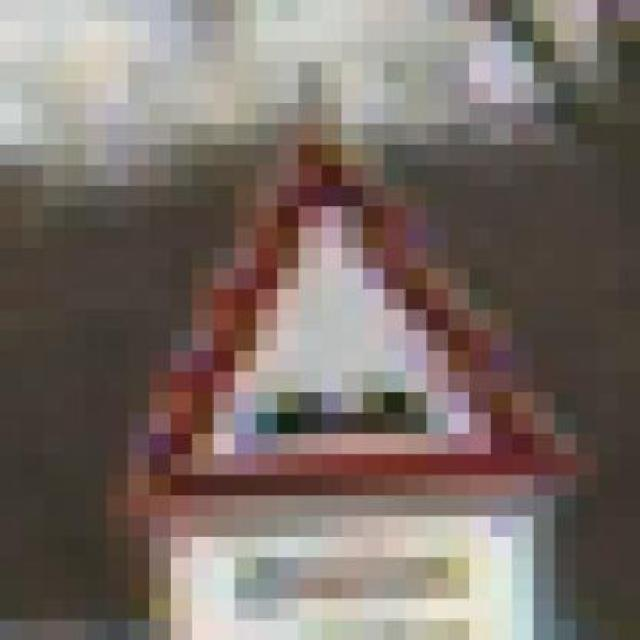Uneven Road: (64, 110, 576, 544)
